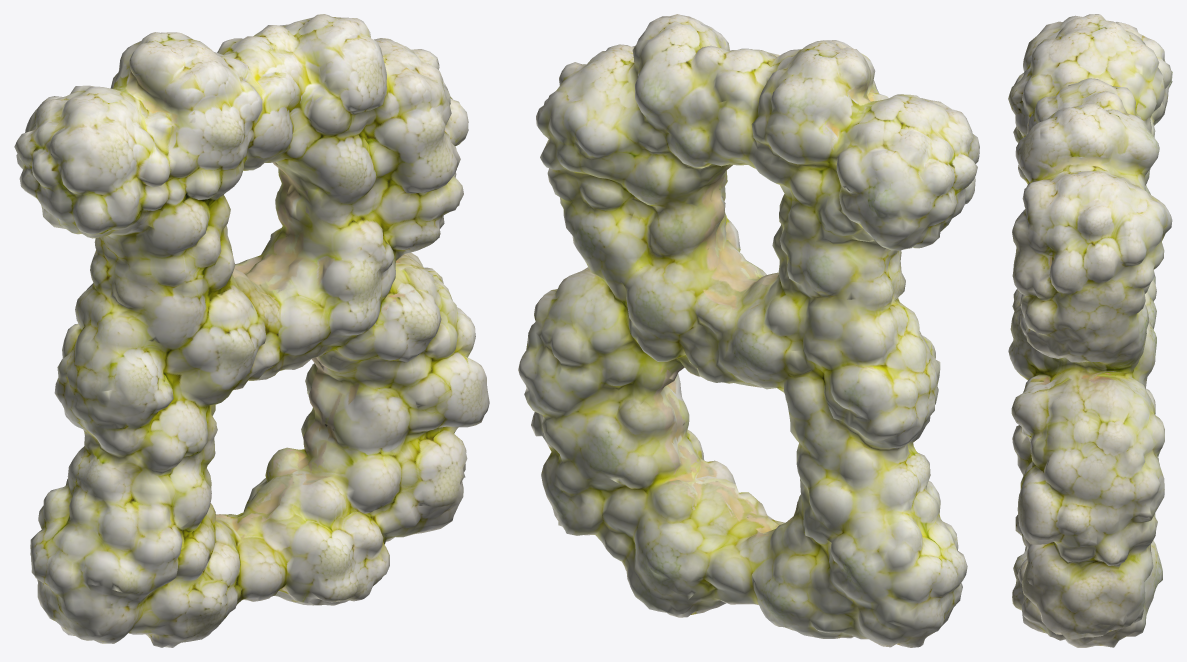
The model's file is Cauliflower_B.glb.
The picture shows the model from 3 angles, left to right: view 1: azimuth 30°, elevation 25°; view 2: azimuth 150°, elevation 25°; view 3: azimuth 270°, elevation 25°; orthographic projection. The views are drawn at different scales.
Size of the model in its own units: 1.56 by 2 by 0.5451.
Materials: 1 (1 with a texture image).
